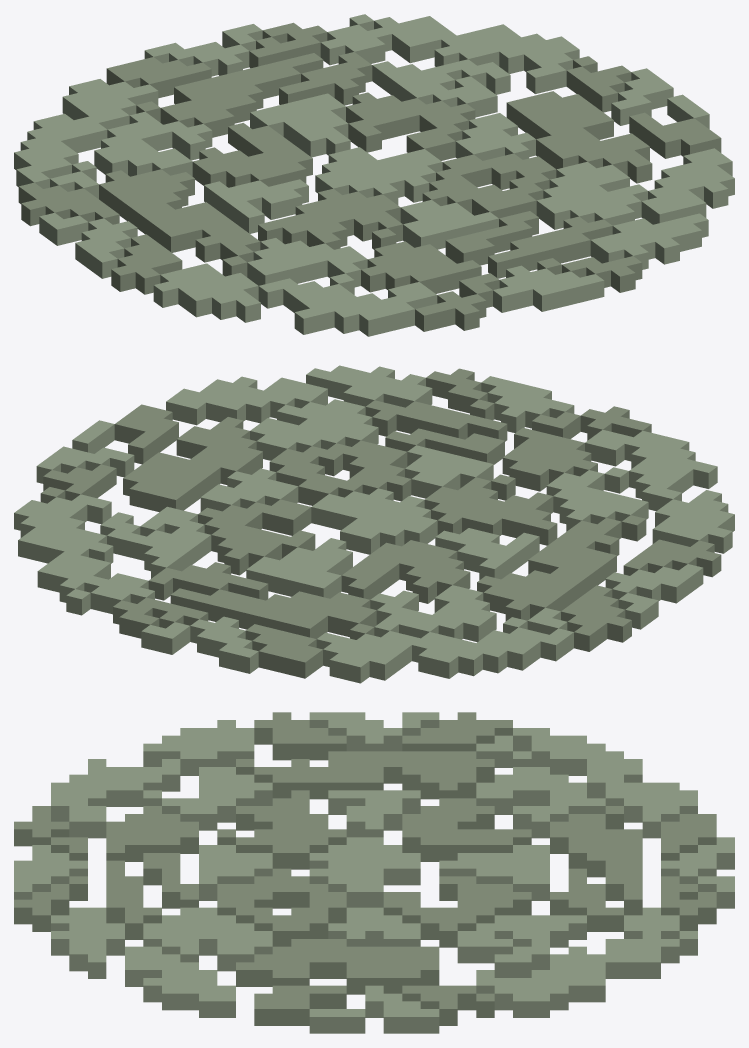
File: architecture.obj
3 renders of one model, top to bottom at view 1: azimuth 30°, elevation 25°; view 2: azimuth 150°, elevation 25°; view 3: azimuth 270°, elevation 25°, orthographic. The views are drawn at different scales.
Bounding box in the file's own units: 3.9 × 0.1 × 3.9.
Materials: 1 (1 with a texture image).
